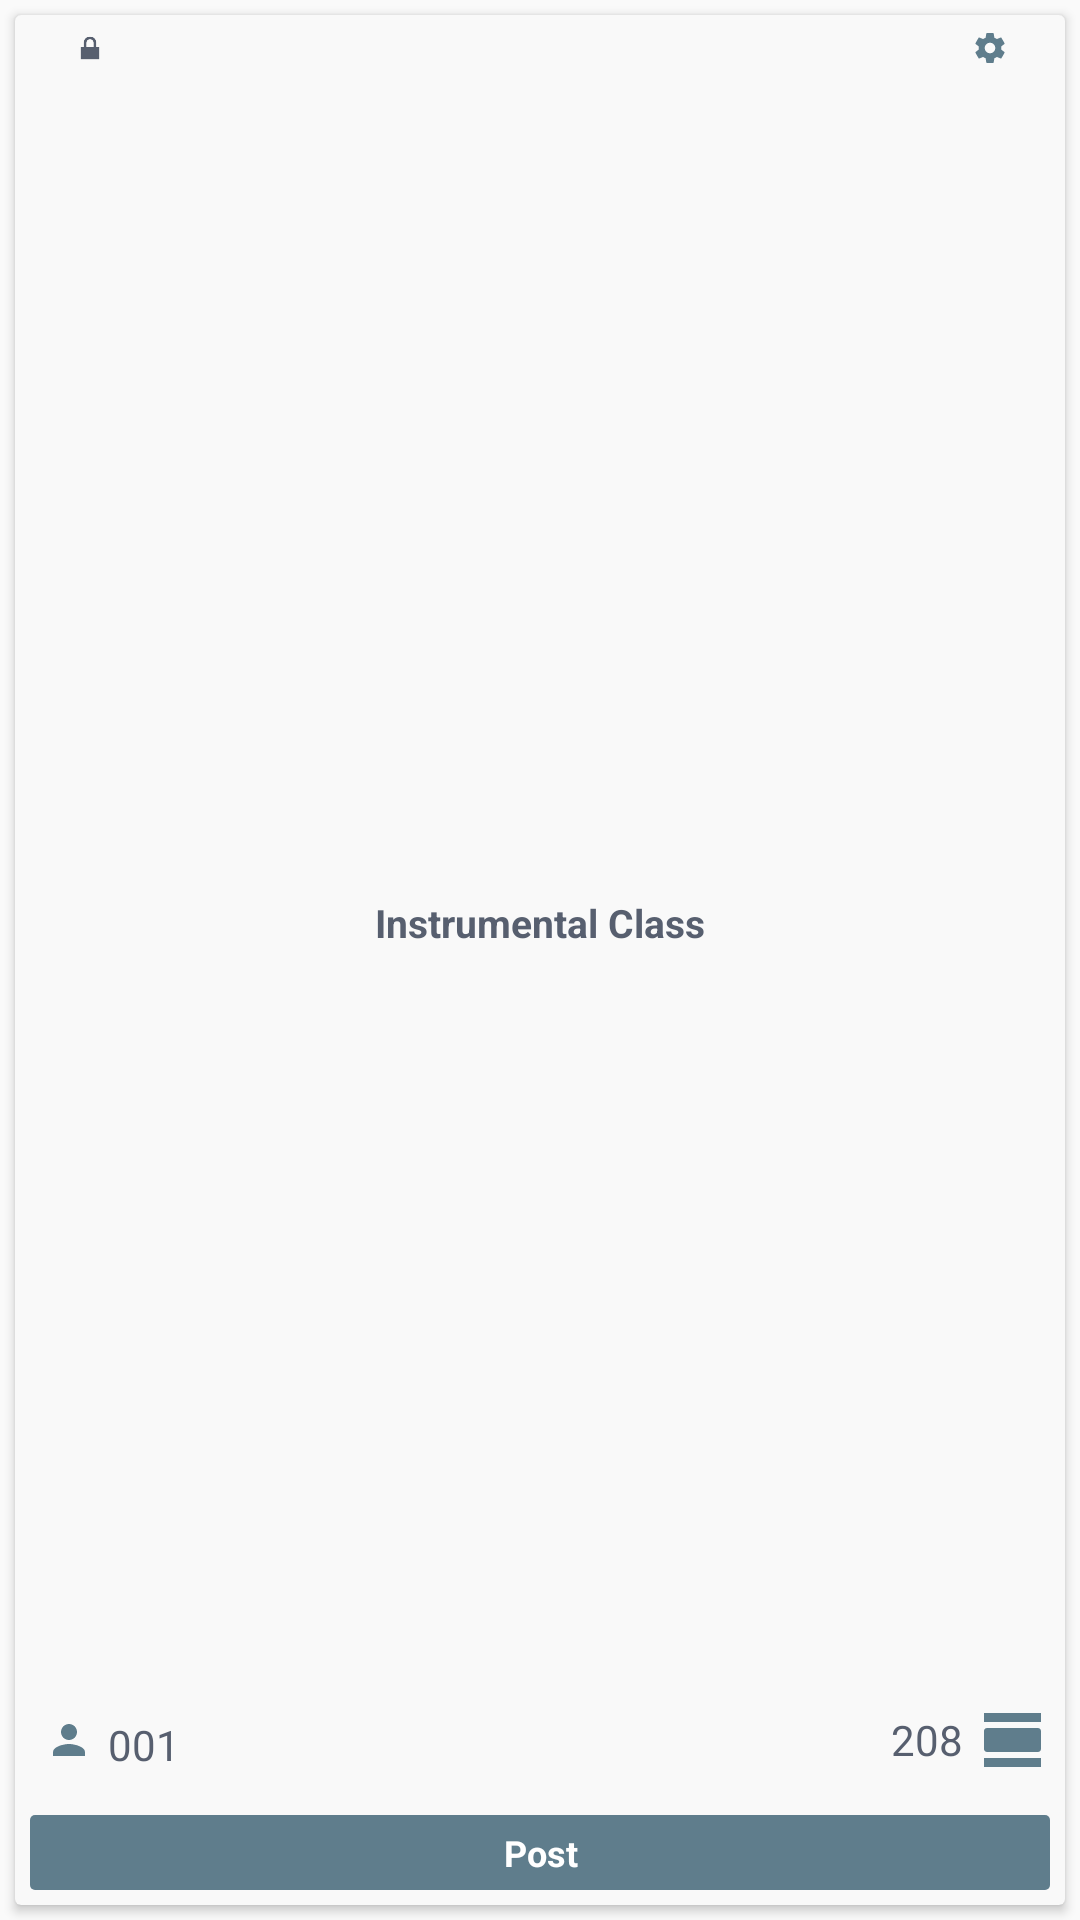

Icons on this 1080w x 1920h Android screen, each with the point to tap as (x=x, y=y):
setting: (x=990, y=48)
you: (x=69, y=1740)
